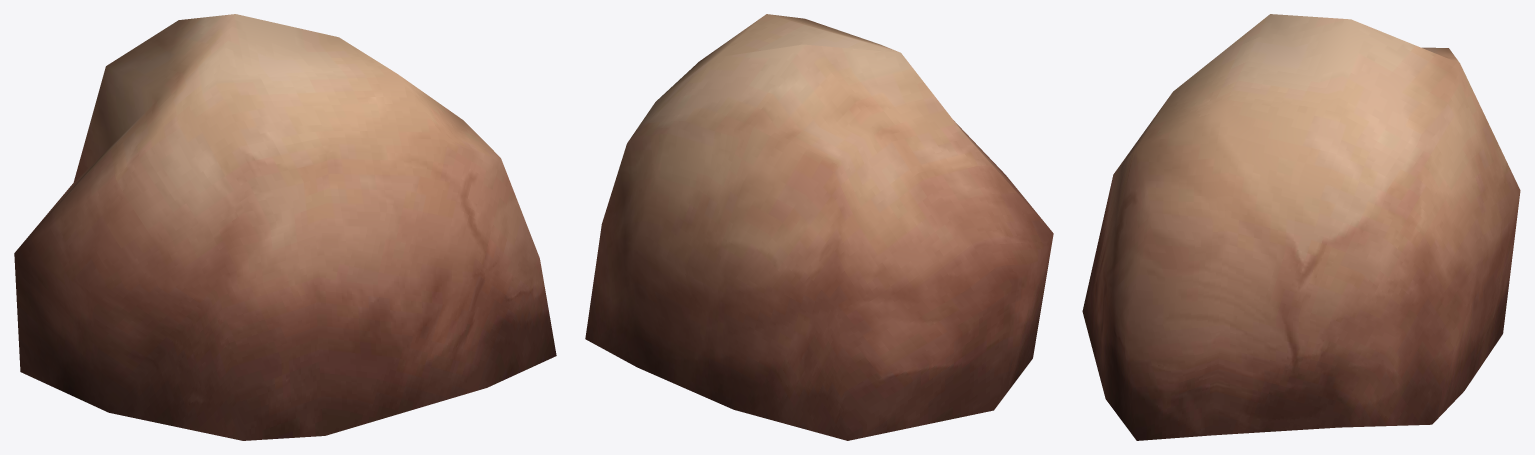
The model's file is Rock_Test_Obj.obj.
The picture shows the model from 3 angles, left to right: view 1: azimuth 30°, elevation 25°; view 2: azimuth 150°, elevation 25°; view 3: azimuth 270°, elevation 25°; orthographic projection. The views are drawn at different scales.
Visible parts, largest first — view 1: Rock:group1 Rock:pCube1 Rock:polySurface2 Rock:polySurface3 Rock; view 2: Rock:group1 Rock:pCube1 Rock:polySurface2 Rock:polySurface3 Rock; view 3: Rock:group1 Rock:pCube1 Rock:polySurface2 Rock:polySurface3 Rock.
Part boxes in pixels (left/top/right/bottom): Rock:group1 Rock:pCube1 Rock:polySurface2 Rock:polySurface3 Rock: left=14, top=14, right=556, bottom=440; Rock:group1 Rock:pCube1 Rock:polySurface2 Rock:polySurface3 Rock: left=585, top=14, right=1053, bottom=440; Rock:group1 Rock:pCube1 Rock:polySurface2 Rock:polySurface3 Rock: left=1082, top=14, right=1520, bottom=440.
Size of the model in its own units: 1.68 by 1.18 by 1.47.
Materials: 1 (1 with a texture image).
